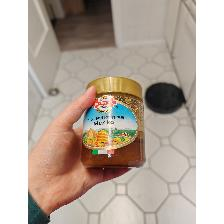Honig: (79, 77, 148, 170)
